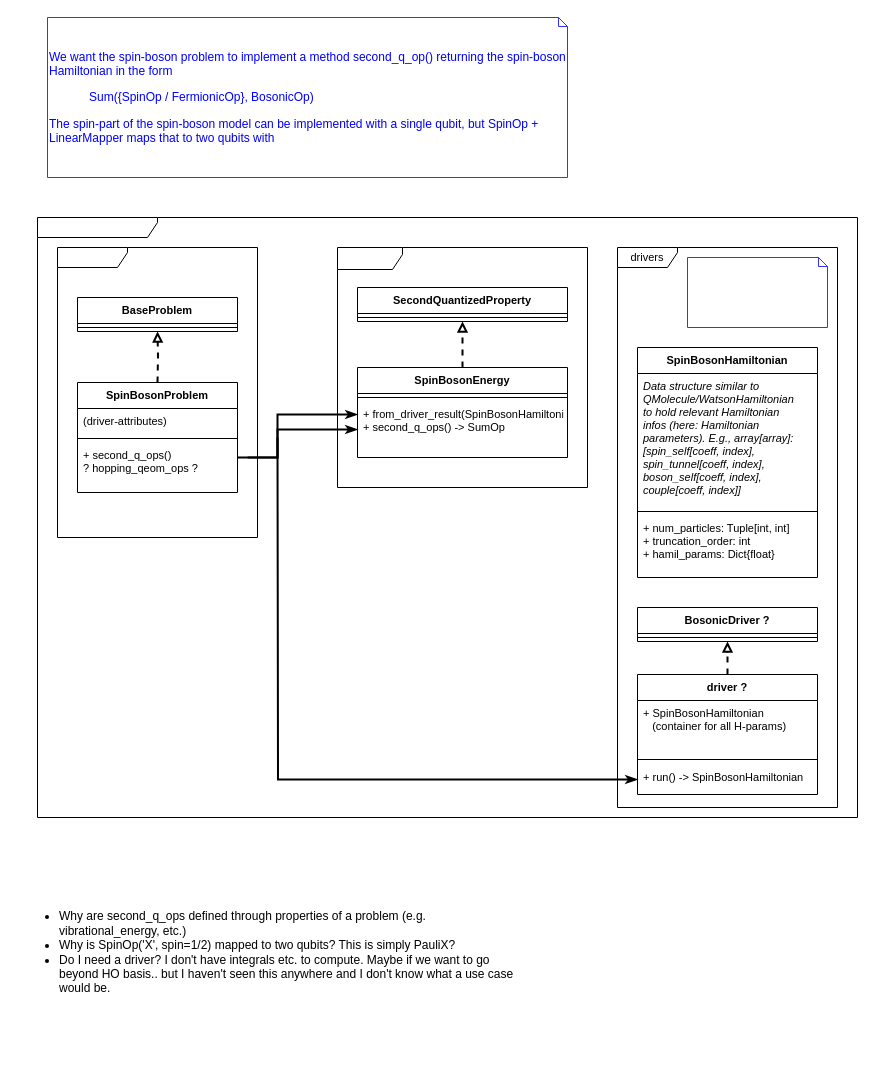
Some shapes in this 875 by 1065 pixel diagram are drawn without their labels. Here are the shapes that lost their labels. From the top down, the box of each, then its label:
(686, 256, 828, 328): to supply coefficients for H-terms? No need to compute integrals of any kind..
(336, 246, 588, 488): properties
(56, 246, 258, 538): problems
(36, 216, 858, 818): Spin-boson module
